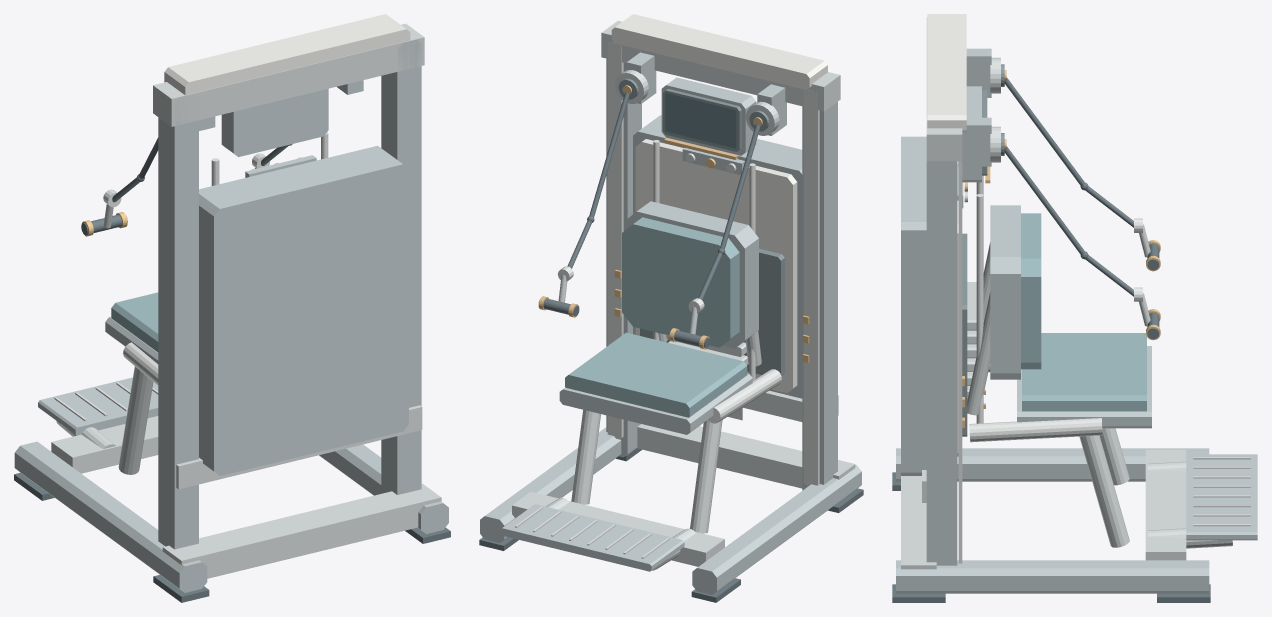
The model's file is exercise_station.glb.
3 views of the same model, side by side, from view 1: azimuth 30°, elevation 25°; view 2: azimuth 150°, elevation 25°; view 3: azimuth 270°, elevation 25° (orthographic). The views are drawn at different scales.
Visible parts, largest first — view 1: static__graphite, static__steel, static__cream, Control_Console__graphite, Foot_Rest__graphite, Seat_Frame__steel, Seat_Cushion__olive, static__rubber, Seat_Frame__graphite, Seat_Frame__satinsteel, Cable_Run__rubber; view 2: static__graphite, static__cream, static__steel, Backrest_Cushion__olive, static__satinsteel, Seat_Cushion__olive, Seat_Frame__graphite, Foot_Rest__graphite, Seat_Frame__steel, static__deep, Control_Console__exercise_display, Cable_Run__rubber (+9 smaller); view 3: static__graphite, Seat_Cushion__olive, static__steel, Seat_Frame__graphite, Foot_Rest__graphite, static__cream, Seat_Frame__steel, Backrest_Cushion__olive, Seat_Frame__satinsteel, Cable_Run__rubber, static__satinsteel, Resistance_Stack__satinsteel (+7 smaller).
Boxes of the visible parts, x1,y1,x2,y2 form: static__graphite: (14,40,448,592); static__steel: (51,23,441,578); static__cream: (164,14,410,95); Control_Console__graphite: (221,88,328,156); Foot_Rest__graphite: (38,377,158,435); Seat_Frame__steel: (118,366,153,474); Seat_Cushion__olive: (111,292,158,352); static__rubber: (14,472,450,602); Seat_Frame__graphite: (105,316,158,363); Seat_Frame__satinsteel: (123,342,158,385); Cable_Run__rubber: (112,137,292,202); static__graphite: (480,52,861,594); static__cream: (611,14,827,392); static__steel: (512,20,855,566); Backrest_Cushion__olive: (622,217,739,347); static__satinsteel: (607,41,819,485); Seat_Cushion__olive: (565,332,747,417); Seat_Frame__graphite: (559,201,758,434); Foot_Rest__graphite: (500,504,684,571); Seat_Frame__steel: (571,331,761,533); static__deep: (640,248,784,375); Control_Console__exercise_display: (665,93,736,148); Cable_Run__rubber: (567,92,760,300); static__graphite: (896,48,1209,593); Seat_Cushion__olive: (1022,333,1146,411); static__steel: (901,17,1186,569); Seat_Frame__graphite: (990,205,1151,428); Foot_Rest__graphite: (1186,454,1257,540); static__cream: (927,14,966,456); Seat_Frame__steel: (967,242,1129,547); Backrest_Cushion__olive: (1021,213,1041,369); Seat_Frame__satinsteel: (969,363,1102,442); Cable_Run__rubber: (1004,77,1133,296); static__satinsteel: (958,161,962,563); Resistance_Stack__satinsteel: (976,175,983,423).
Bounding box in the file's own units: 1.16 × 2.06 × 1.44.
